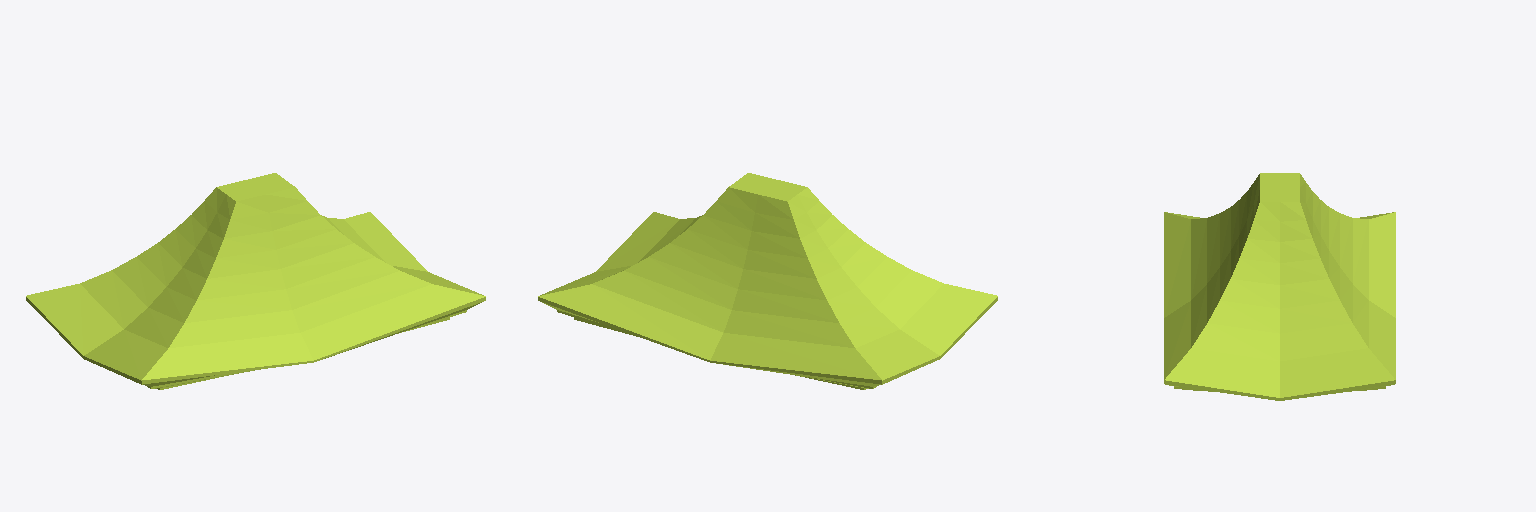
Rendered from pagoda.obj.
3 views of the same model, side by side, from view 1: azimuth 30°, elevation 25°; view 2: azimuth 150°, elevation 25°; view 3: azimuth 270°, elevation 25° (orthographic).
Parts seen in each view (by area): view 1: pagode; view 2: pagode; view 3: pagode.
Boxes of the visible parts, x1=… form: pagode: x1=26, y1=173, x2=485, y2=389; pagode: x1=538, y1=173, x2=997, y2=389; pagode: x1=1164, y1=173, x2=1395, y2=400.
Bounding box in the file's own units: 2509 × 957 × 1461.